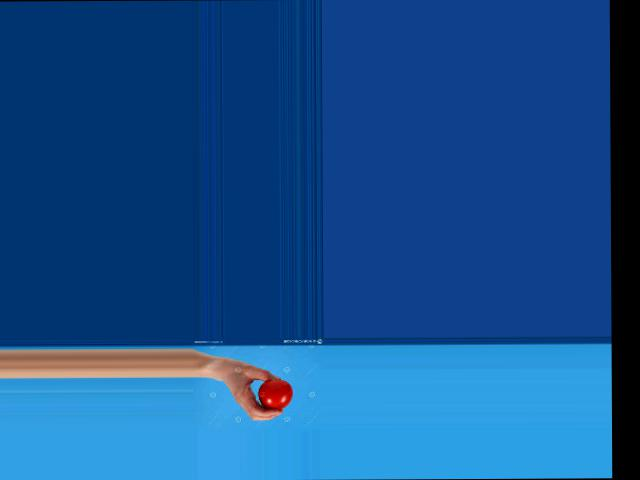tomato: (258, 379, 292, 409)
